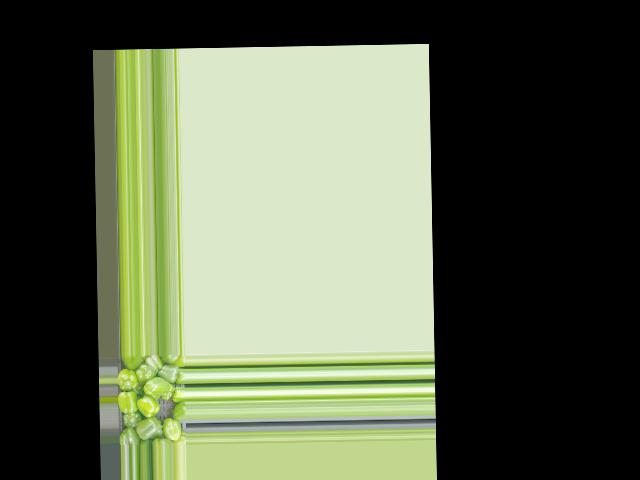bell_pepper: (126, 354, 145, 369)
